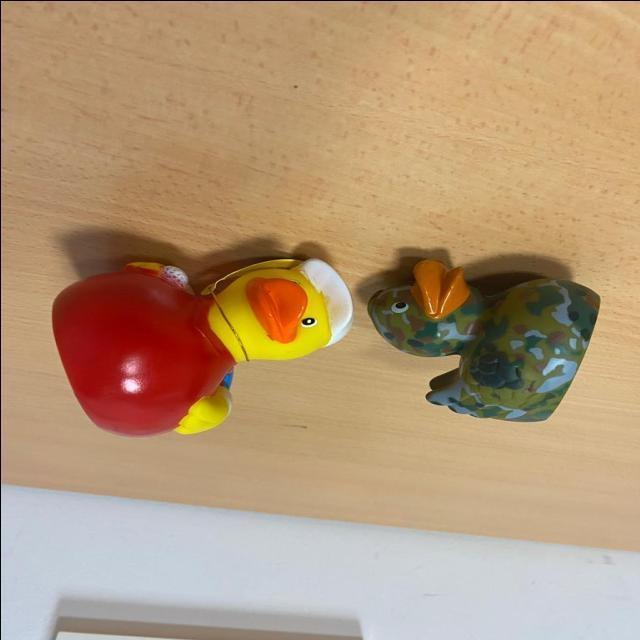rubber-duck: (51, 258, 351, 434), (367, 259, 598, 420)
